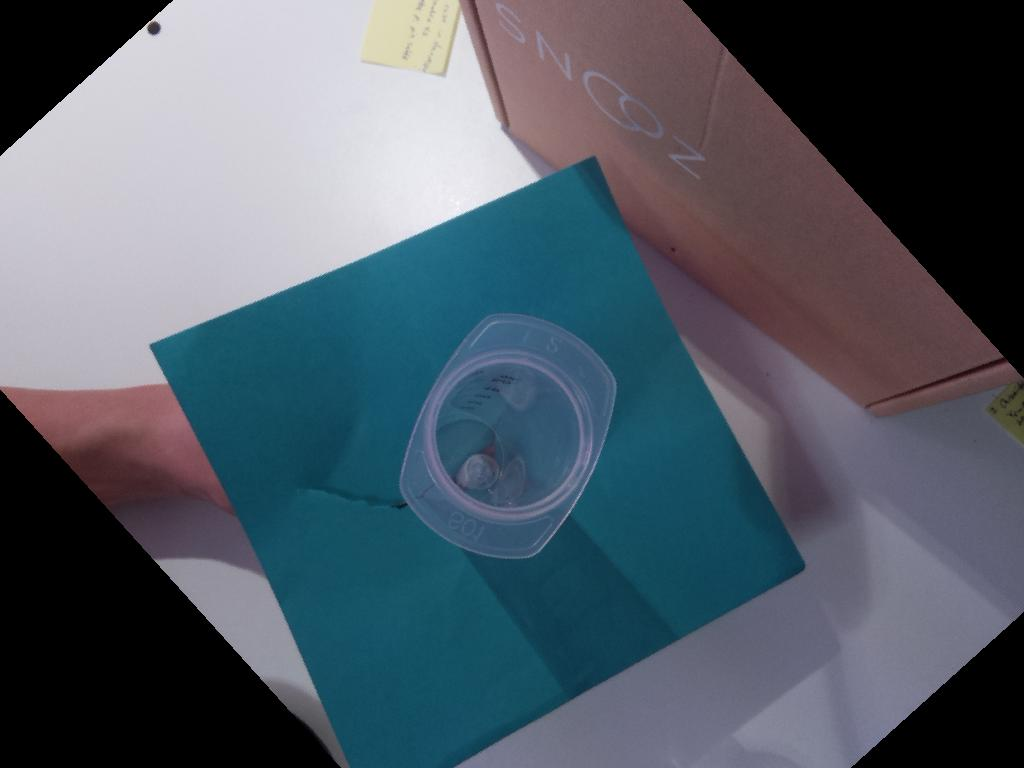clean: (398, 312, 616, 561)
